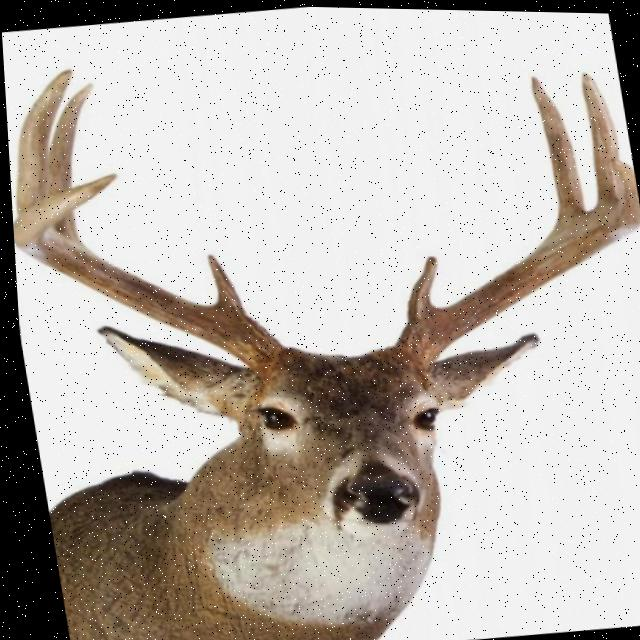L-F: (390, 155, 640, 370)
L-G1: (403, 253, 435, 320)
L-G2: (529, 71, 584, 220)
R-F: (10, 172, 281, 382)
R-G1: (203, 253, 241, 311)
